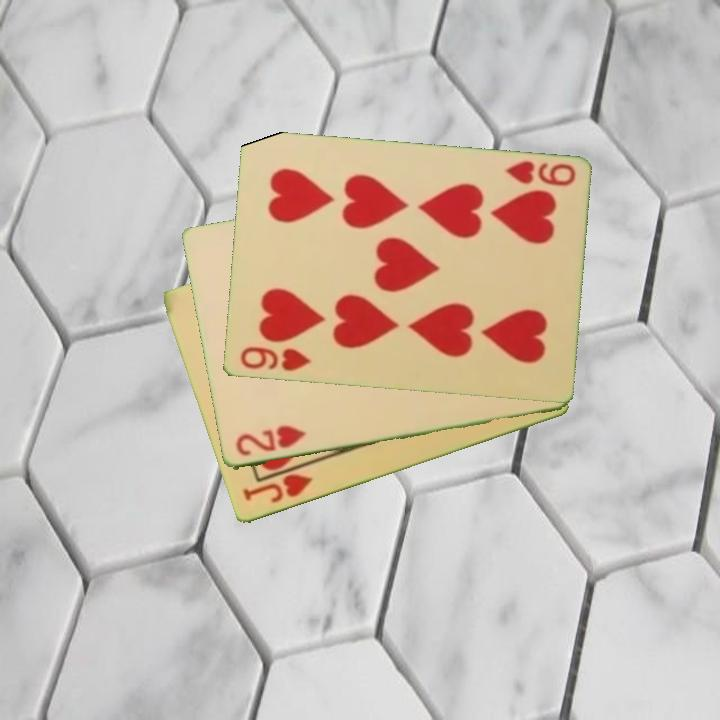2h: (232, 422, 309, 460)
9h: (501, 157, 578, 190), (236, 343, 313, 374)
Jh: (239, 470, 316, 507)
